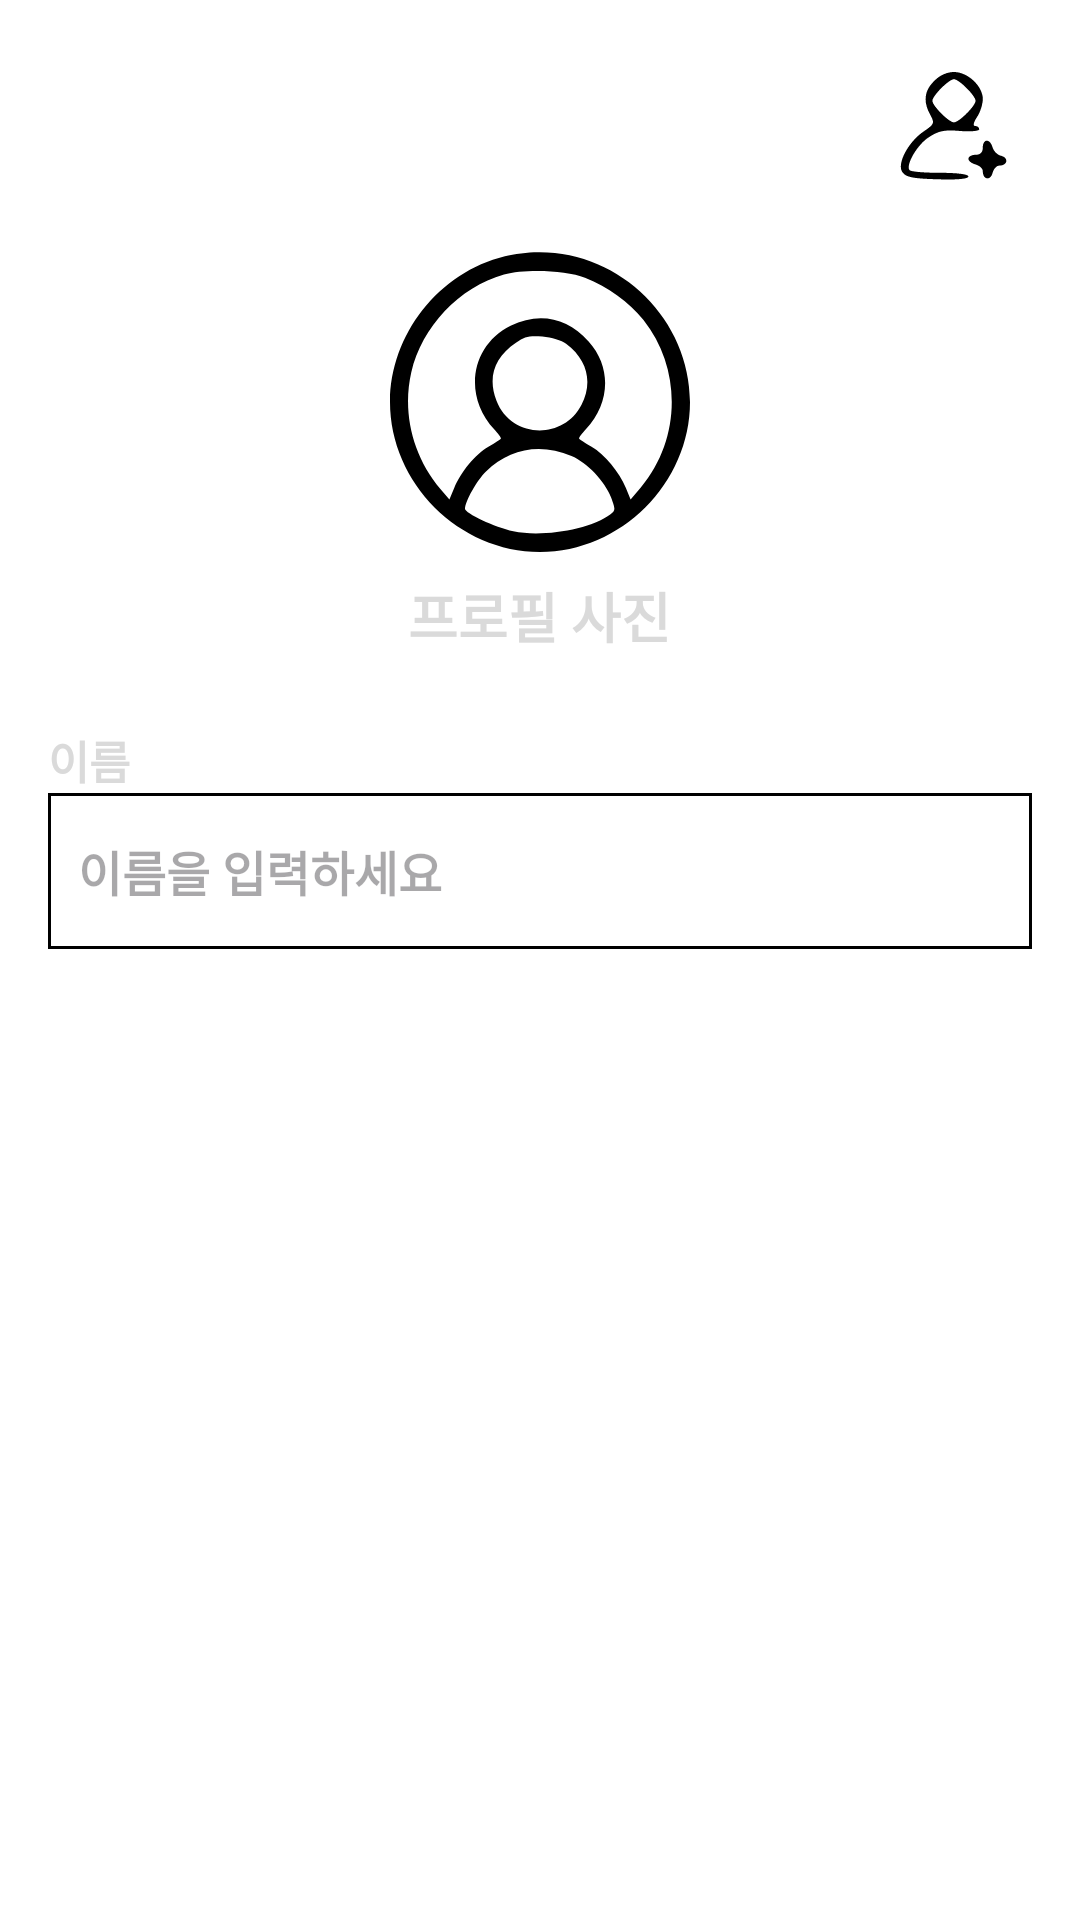

Where to tap for icons on this 1080px×1920px app screen, as [x,y]:
friendplus: [953,126]
